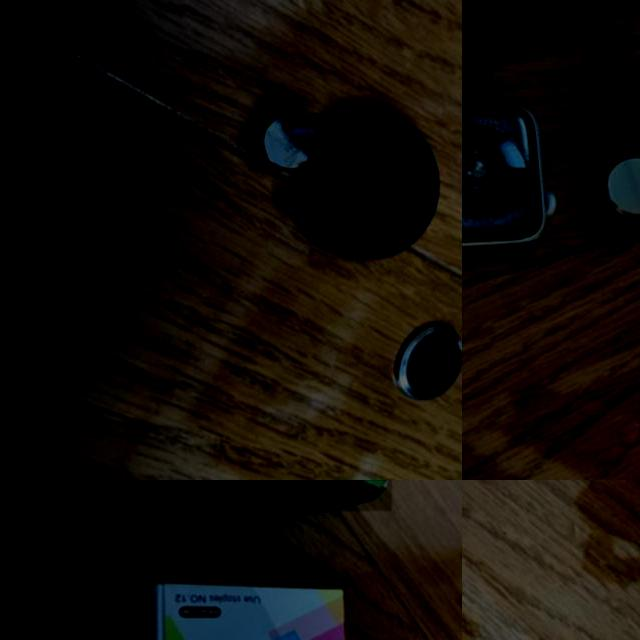9V: (190, 480, 391, 511)
